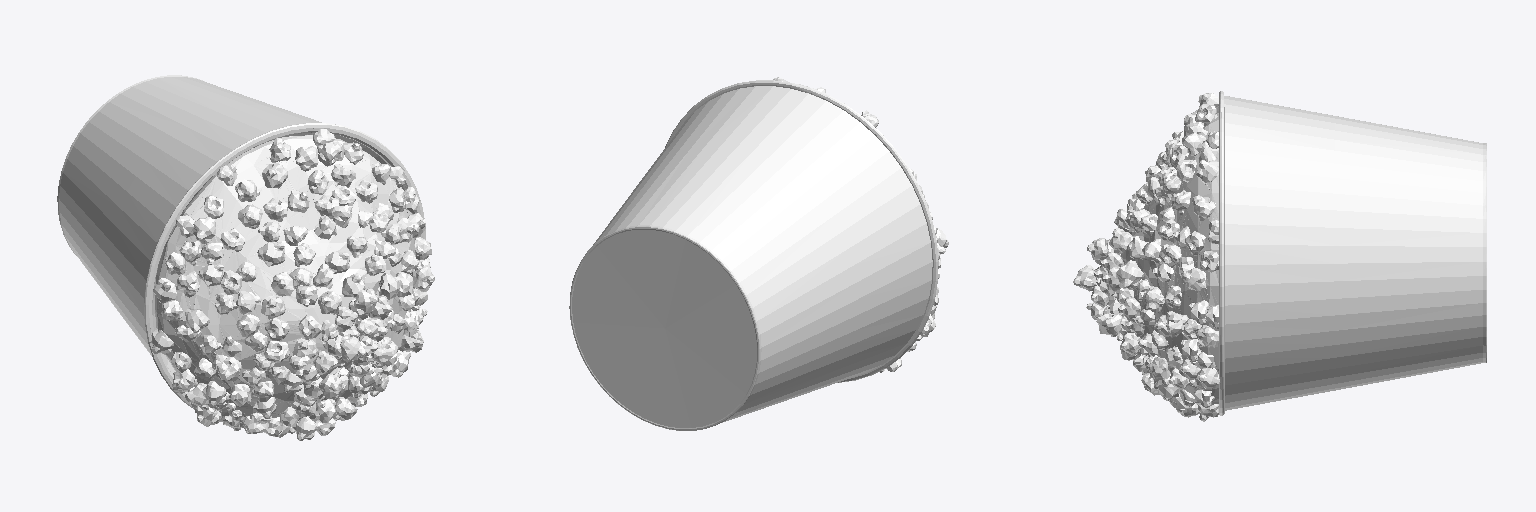
File: popcorn.obj
3 renders of one model, left to right at view 1: azimuth 30°, elevation 25°; view 2: azimuth 150°, elevation 25°; view 3: azimuth 270°, elevation 25°, orthographic.
Parts seen in each view (by area): view 1: Object.1; view 2: Object.1; view 3: Object.1.
Part boxes in pixels (left/top/right/bottom): Object.1: left=57, top=75, right=434, bottom=440; Object.1: left=569, top=77, right=948, bottom=430; Object.1: left=1073, top=91, right=1486, bottom=421.
Size of the model in its own units: 51.67 by 52.67 by 65.64.